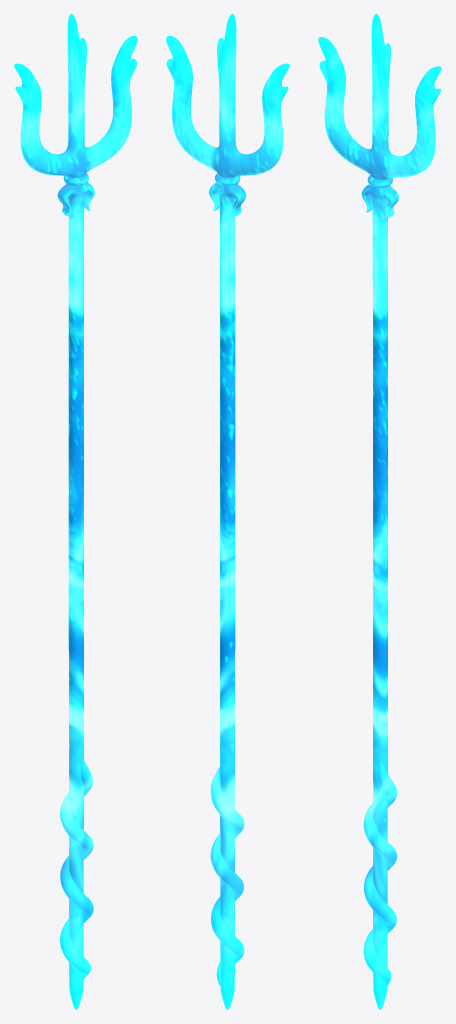
The model's file is gawr_guras_trident.glb.
The picture shows the model from 3 angles, left to right: view 1: azimuth 30°, elevation 25°; view 2: azimuth 150°, elevation 25°; view 3: azimuth 330°, elevation 25°; orthographic projection.
Parts seen in each view (by area): view 1: Box001, Helix001; view 2: Box001, Helix001; view 3: Box001, Helix001.
Boxes of the visible parts, left/top/right/bottom form: Box001: left=14, top=14, right=137, bottom=1009; Helix001: left=60, top=759, right=93, bottom=978; Box001: left=166, top=14, right=289, bottom=1009; Helix001: left=210, top=767, right=244, bottom=985; Box001: left=318, top=14, right=441, bottom=1009; Helix001: left=363, top=762, right=397, bottom=985.
Size of the model in its own units: 0.2057 by 1.61 by 0.0491.
Materials: 1 (1 with a texture image).
